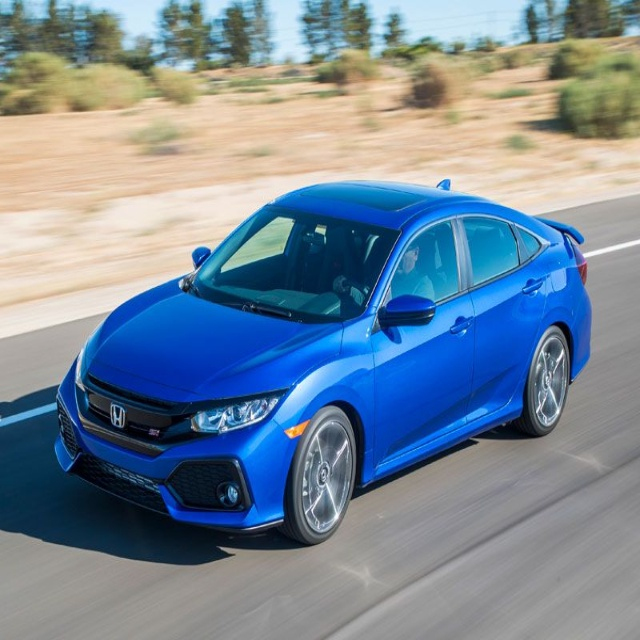Car: (54, 179, 593, 547)
